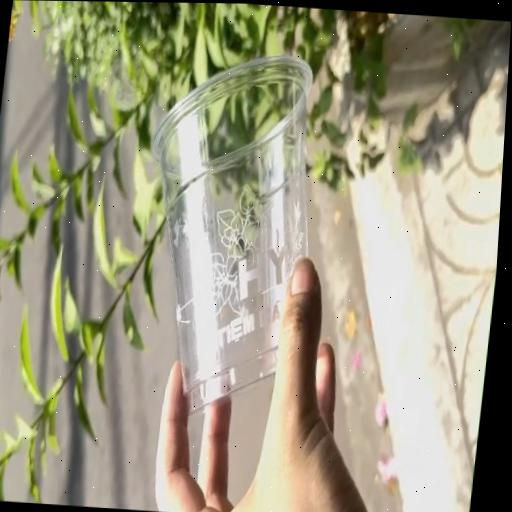ly_giay: (151, 56, 312, 412)
